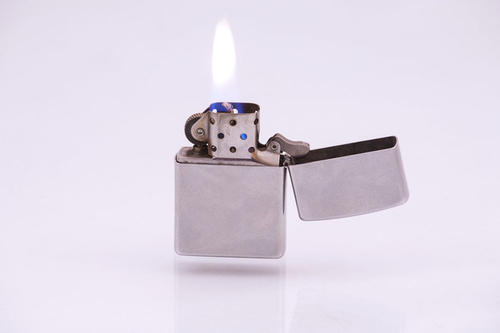fire: (202, 15, 258, 127)
